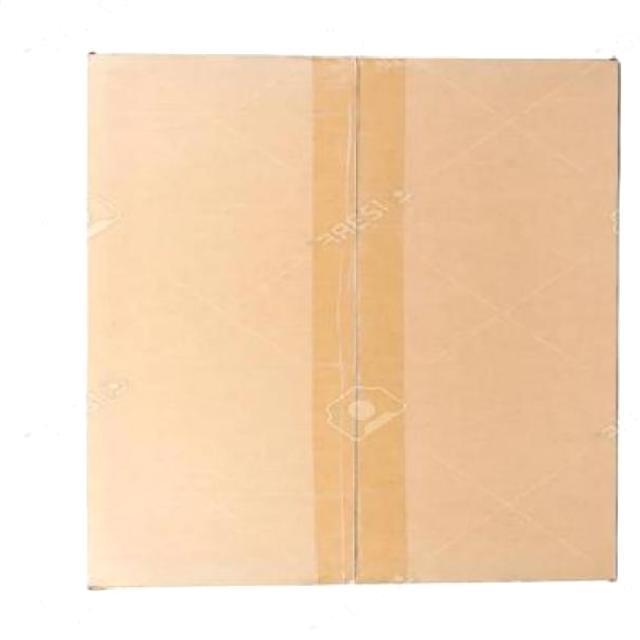box: (86, 50, 622, 590)
